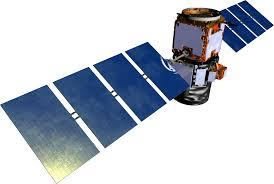body: (169, 5, 228, 107)
solar: (0, 82, 102, 184), (51, 65, 140, 150), (91, 51, 168, 123), (125, 40, 192, 102), (214, 7, 257, 45), (226, 4, 268, 39), (236, 0, 274, 30), (221, 27, 248, 56)
